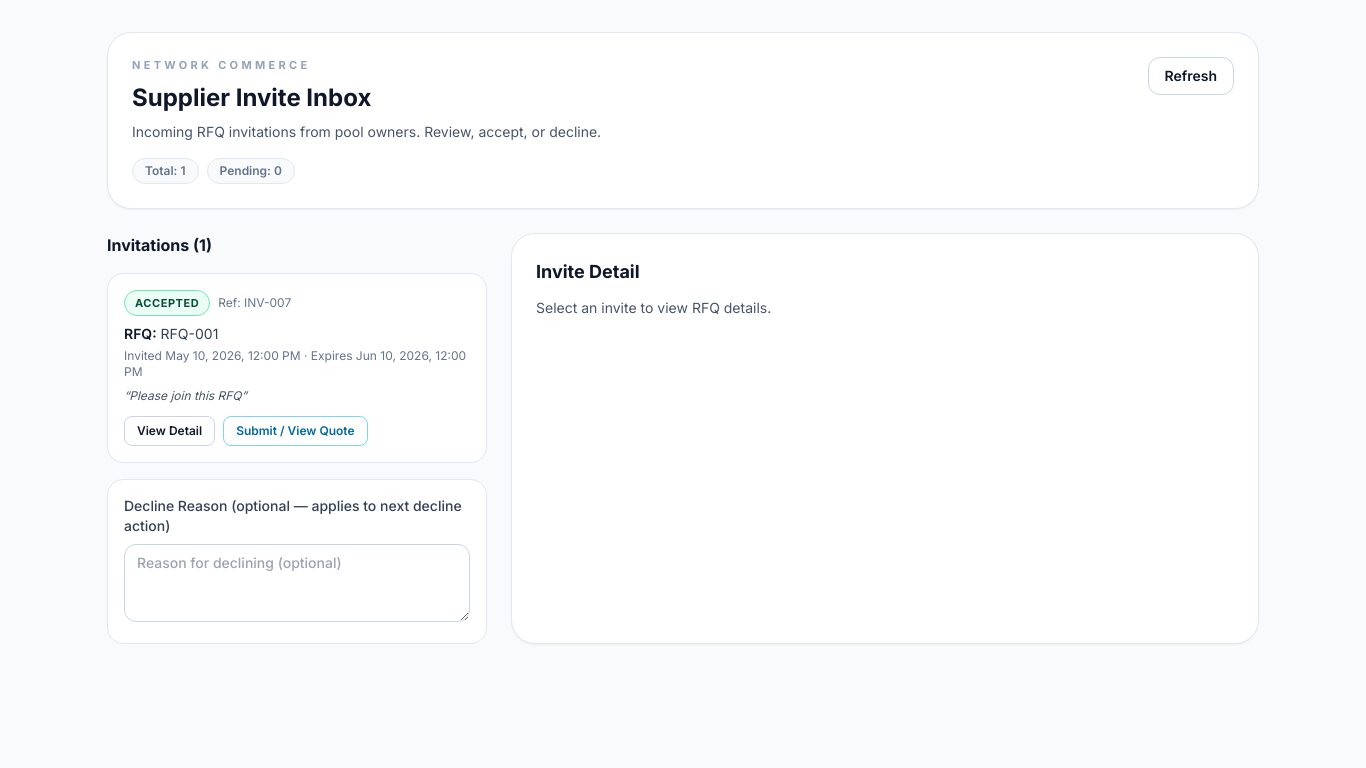
Scenario: FE-8 SupplierInviteInbox — quote button for accepted invite › navigates to SupplierQuoteSurface when Submit / View Quote is clicked
Step 1. Click the button "Submit / View Quote" → (295, 431), box [223,416,368,446]
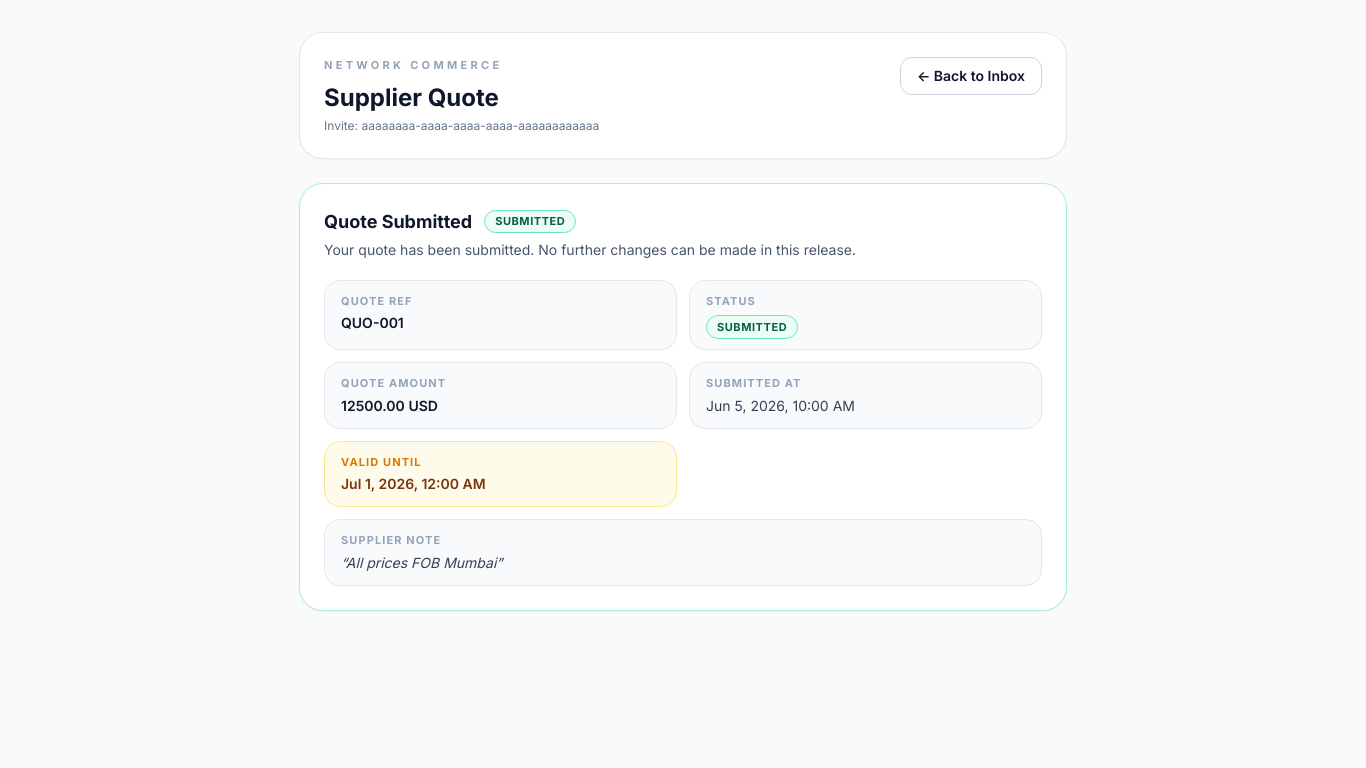
Result: the heading "Supplier Quote" is shown at [324,82,499,112]
Result: the heading "Quote Submitted" is shown at [324,208,472,236]
